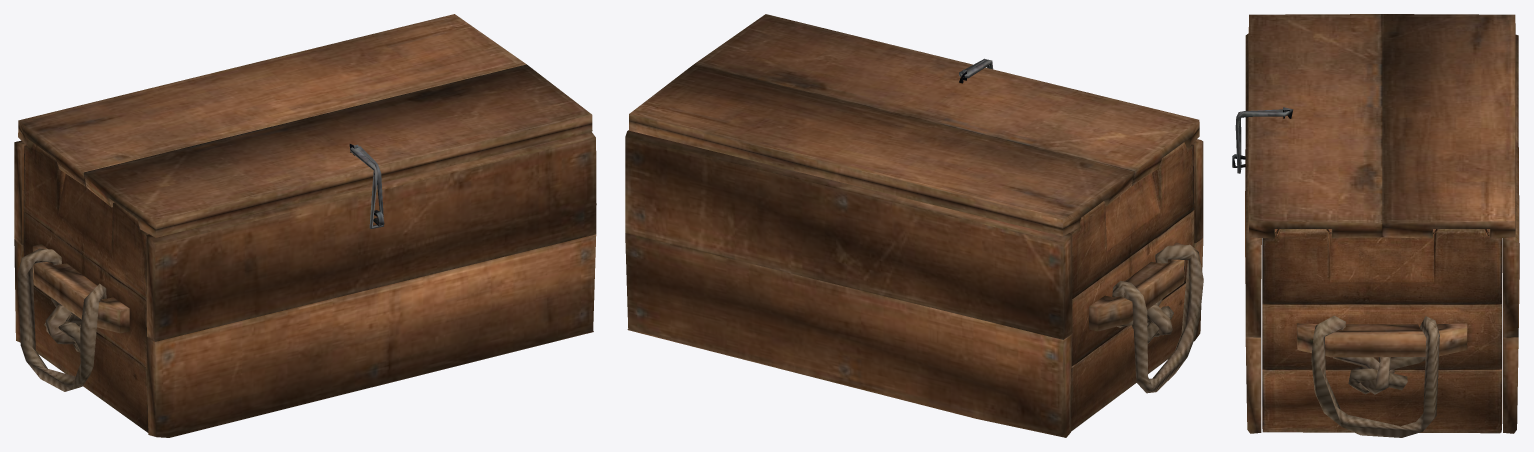
Rendered from wooden_crate_01_web.glb.
3 renders of one model, left to right at view 1: azimuth 30°, elevation 25°; view 2: azimuth 150°, elevation 25°; view 3: azimuth 270°, elevation 25°, orthographic. The views are drawn at different scales.
Parts seen in each view (by area): view 1: wooden_crate_01, wooden_crate_01_lid, wooden_crate_01_latch; view 2: wooden_crate_01, wooden_crate_01_lid; view 3: wooden_crate_01_lid, wooden_crate_01, wooden_crate_01_latch.
Part boxes in pixels (x1=…): wooden_crate_01: x1=14, y1=131, x2=596, y2=437; wooden_crate_01_lid: x1=18, y1=14, x2=592, y2=237; wooden_crate_01_latch: x1=350, y1=146, x2=383, y2=228; wooden_crate_01: x1=625, y1=130, x2=1203, y2=437; wooden_crate_01_lid: x1=629, y1=14, x2=1199, y2=236; wooden_crate_01_lid: x1=1248, y1=14, x2=1515, y2=238; wooden_crate_01: x1=1232, y1=33, x2=1519, y2=437; wooden_crate_01_latch: x1=1235, y1=109, x2=1289, y2=173.
Bounding box in the file's own units: 0.8245 × 0.3468 × 0.4056.
Materials: 1 (1 with a texture image).
